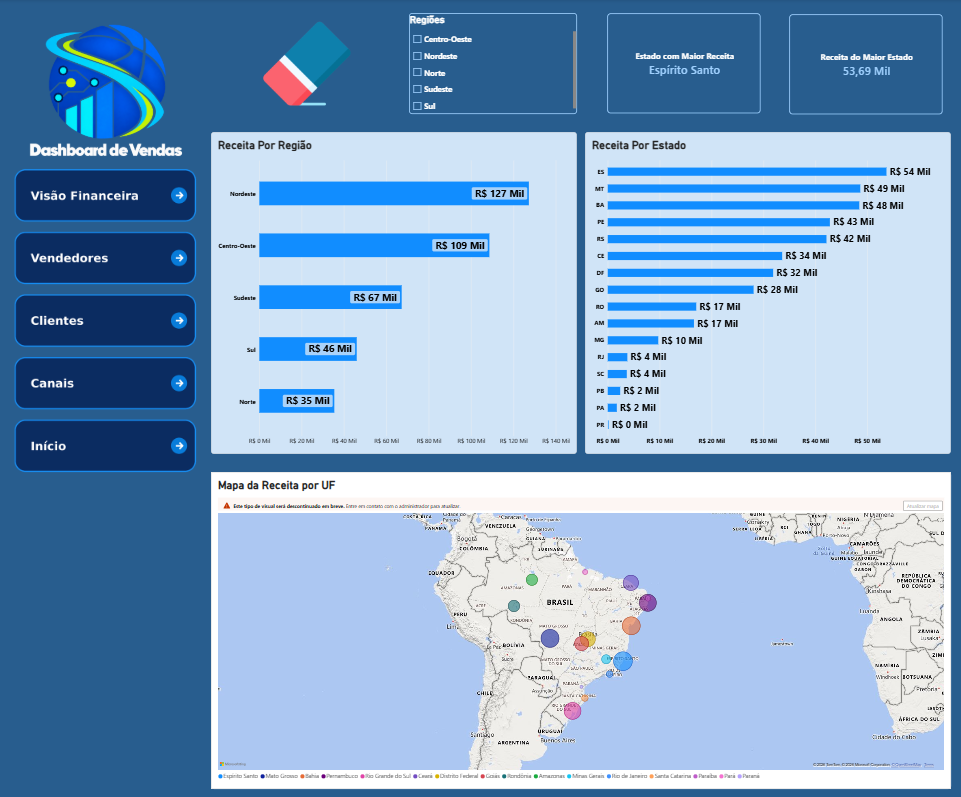

What the dashboard file says about the page in this screenshot:
{"tool":"powerbi","page":{"name":"Vendas_Geográfica","canvas":[2400,2000],"ordinal":2},"visuals":[{"type":"clusteredBarChart","title":"Receita Por Região","fields":{"Category":["Dim_Estado.Regiao"],"Y":["FATO_VENDAS.Receita_Total"]},"box":[527.1,327.6,901.5,793.1],"z":0},{"type":"clusteredBarChart","title":"Receita Por Estado","fields":{"Category":["Dim_Estado.UF"],"Y":["FATO_VENDAS.Receita_Total"]},"box":[1448.3,327.6,901.5,793.1],"z":1000},{"type":"map","title":"Mapa da Receita por UF","fields":{"Category":["Dim_Estado.Estado"],"Series":["Dim_Estado.Estado"],"Size":["FATO_VENDAS.Receita_Total"]},"box":[527.1,1165,1822.7,780.8],"z":2000},{"type":"image","box":[647.8,51.7,230.6,215],"z":3000},{"type":"slicer","title":"Regiões","fields":{"Values":["Dim_Estado.Regiao"]},"box":[1014.8,34.5,413.8,248.8],"z":4000},{"type":"cardVisual","fields":{"Data":["FATO_VENDAS.Estado com Maior Receita"]},"box":[1502.5,34.5,379.3,248.8],"z":5000},{"type":"cardVisual","fields":{"Data":["FATO_VENDAS.Receita do Maior Estado"]},"box":[1950.7,36.9,379.3,248.8],"z":6000},{"type":"image","box":[30.2,342.7,474.1,898.7],"z":7000},{"type":"actionButton","box":[45.3,422.4,441.8,129.3],"z":8000},{"type":"actionButton","box":[45.3,571.1,441.8,129.3],"z":9000},{"type":"actionButton","box":[45.3,724.1,441.8,131.5],"z":10000},{"type":"actionButton","box":[45.3,875,441.8,144.4],"z":11000},{"type":"actionButton","box":[45.3,1034.5,441.8,129.3],"z":12000},{"type":"image","box":[6.5,19.4,519.4,403],"z":13000}]}

Visuals, with their boxes in screenshot pixels (x1, y1, x2, y2), scaled from the page's 2400x2000 canvas onto the 961x797 screenshot:
"Receita Por Região" clusteredBarChart: left=211, top=131, right=572, bottom=447
"Receita Por Estado" clusteredBarChart: left=580, top=131, right=941, bottom=447
"Mapa da Receita por UF" map: left=211, top=464, right=941, bottom=775
image: left=259, top=21, right=352, bottom=106
"Regiões" slicer: left=406, top=14, right=572, bottom=113
cardVisual - FATO_VENDAS.Estado com Maior Receita: left=602, top=14, right=754, bottom=113
cardVisual - FATO_VENDAS.Receita do Maior Estado: left=781, top=15, right=933, bottom=114
image: left=12, top=137, right=202, bottom=495
actionButton: left=18, top=168, right=195, bottom=220
actionButton: left=18, top=228, right=195, bottom=279
actionButton: left=18, top=289, right=195, bottom=341
actionButton: left=18, top=349, right=195, bottom=406
actionButton: left=18, top=412, right=195, bottom=464
image: left=3, top=8, right=211, bottom=168
